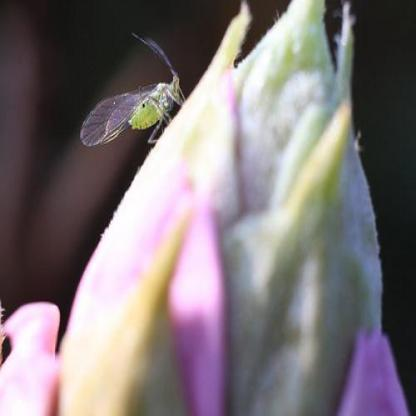aphid: (77, 38, 185, 151)
